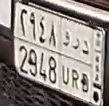2: (19, 9, 28, 75)
4: (39, 16, 47, 83)
8: (48, 22, 58, 85)
9: (29, 11, 38, 78)
D: (82, 39, 91, 94)
R: (71, 37, 81, 89)
U: (60, 31, 71, 85)
